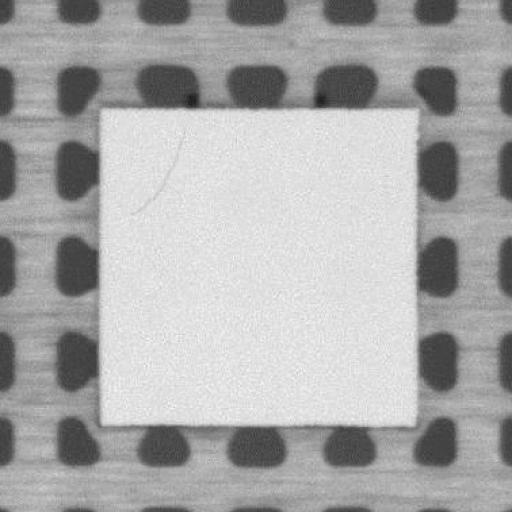DIE_CRACK: (123, 124, 186, 218)
